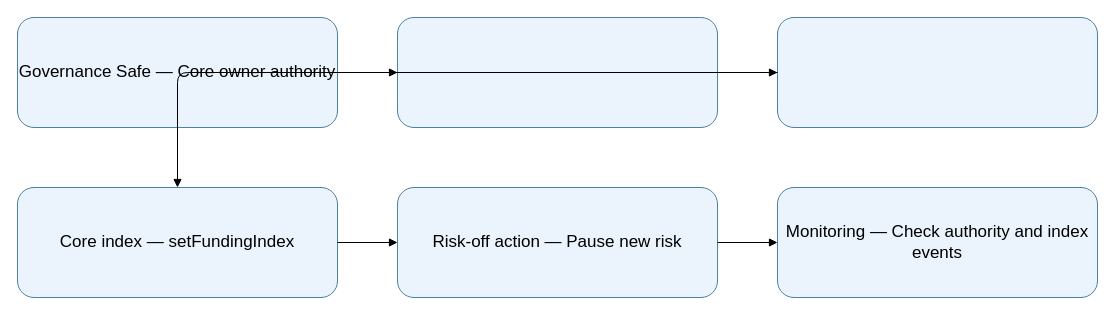
The diagram is 1115 pixels wide and 315 high, and some of its shapes have lost their labels. Each missing label, with the box of its shape:
Bounded wrapper — Operator + cadence + step bound: (776, 16, 1098, 128)
Updater selection — setFundingUpdater: (396, 16, 718, 128)
